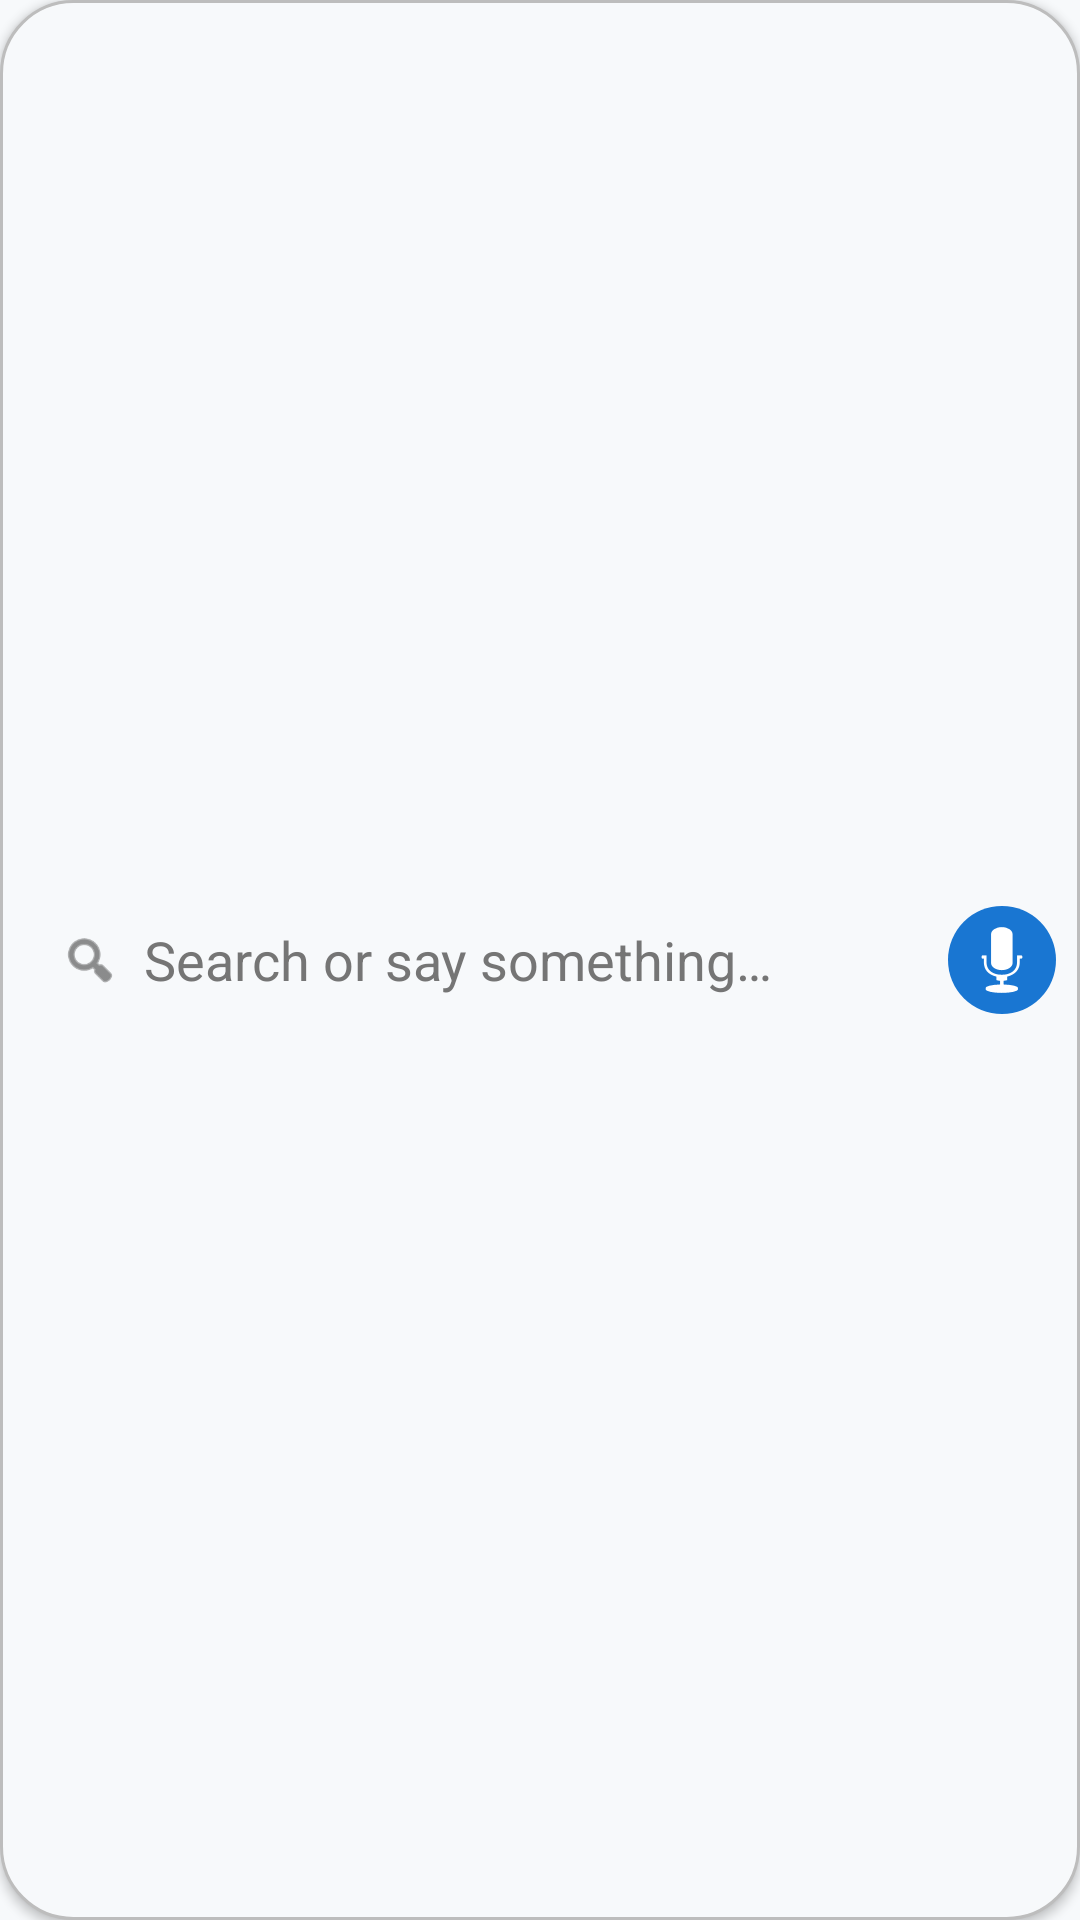

Icons on this 1080x1920 Android screen, each with its box as (x1, y1, x2, y2):
Start voice input for calculation: (948, 906, 1056, 1014)
